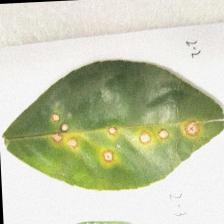canker: (30, 105, 202, 168)
